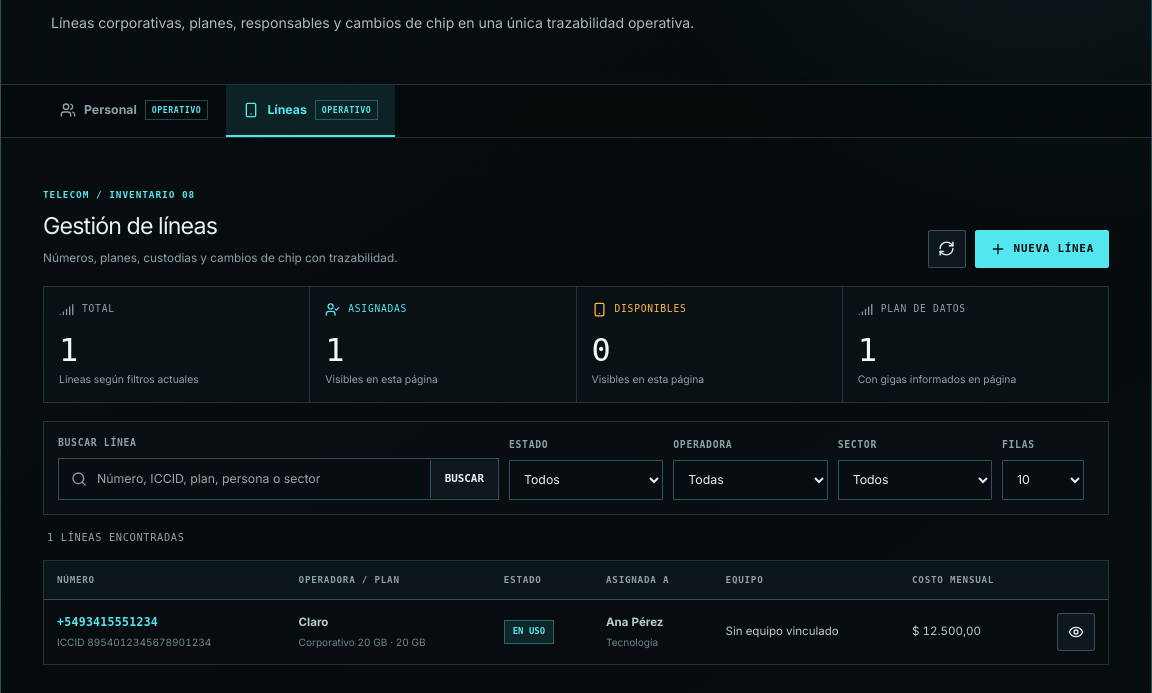
Test: ItStaffPage › carga páginas adicionales del historial de SIM
The width and height of the screenshot is (1152, 693).
(page scrolled)
Click the button named "Ver línea +5493415551234": (1076, 632) x1=1057 y1=613 x2=1095 y2=651
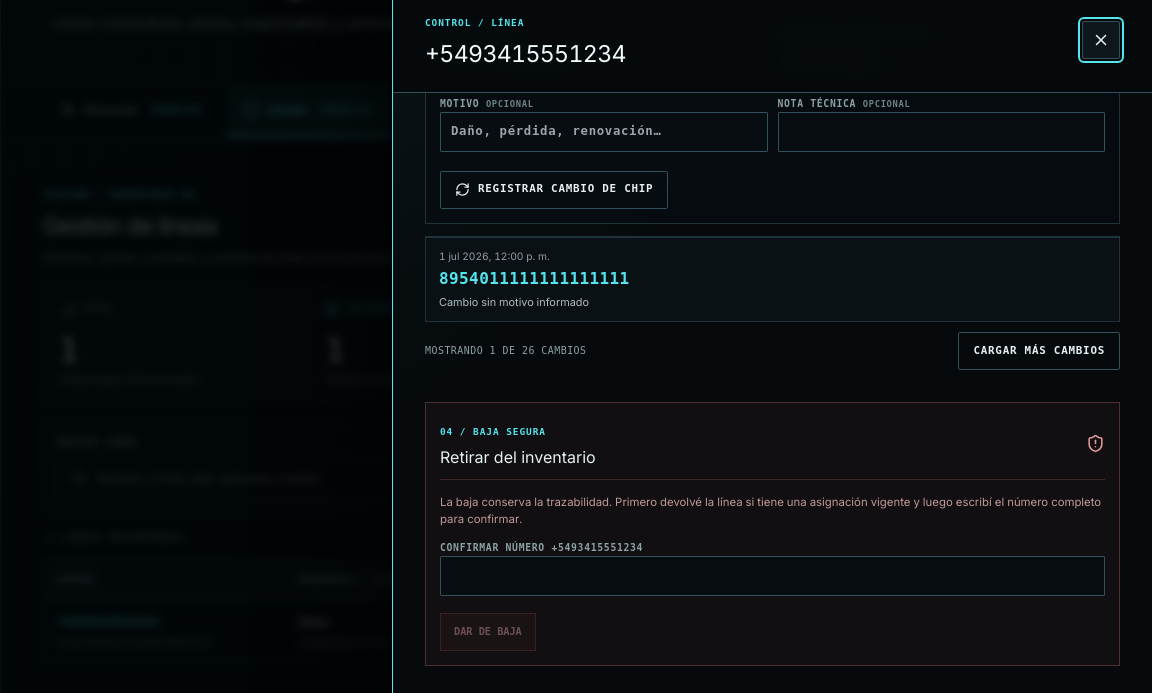
Expected: the text "8954011111111111111" is shown, x1=439 y1=269 x2=630 y2=288
Click the button "Cargar más cambios": (1039, 351) x1=958 y1=332 x2=1120 y2=370
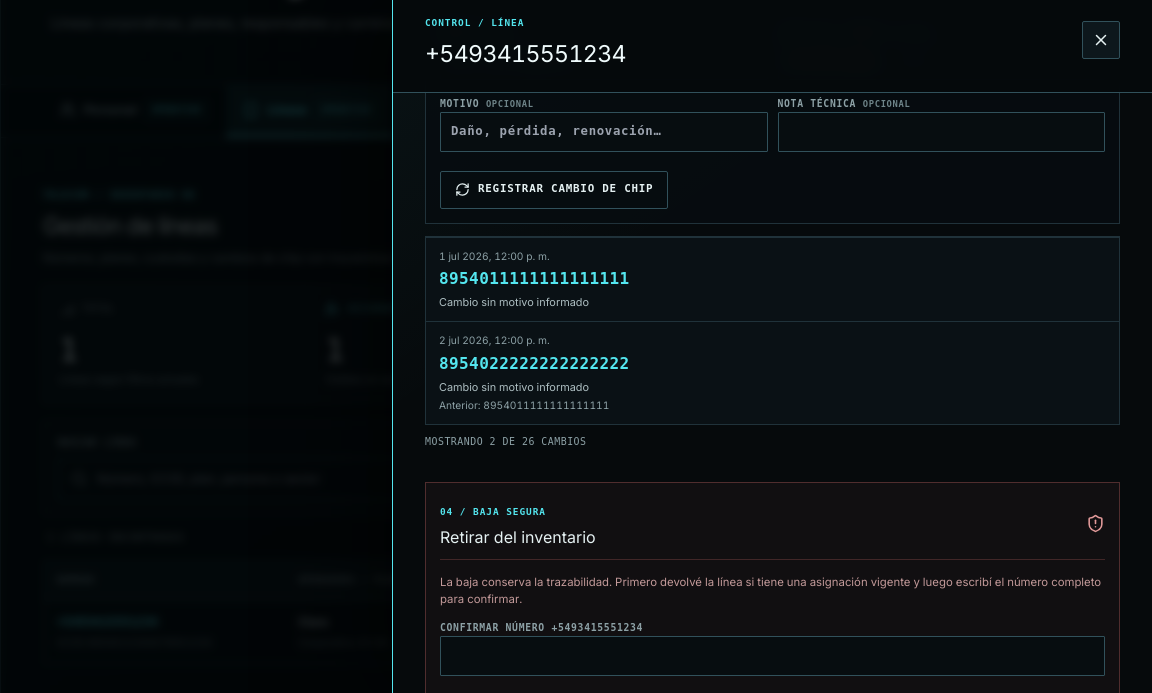
Expected: the text "8954022222222222222" is shown, x1=439 y1=354 x2=630 y2=373
